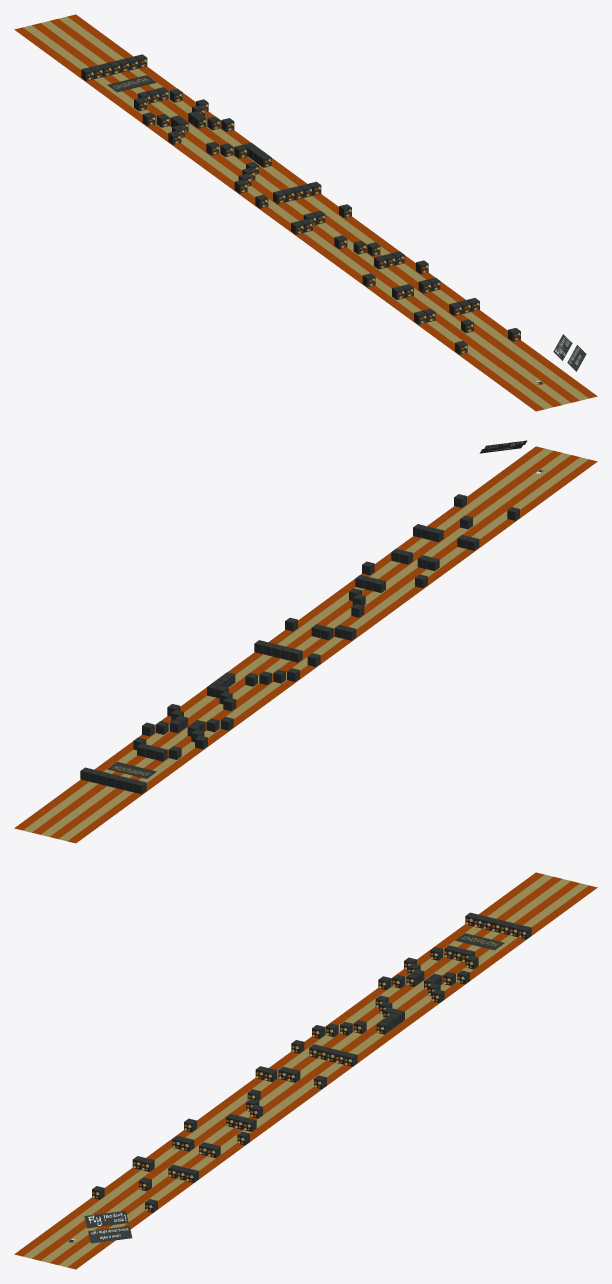
The model's file is assets.gltf.
3 views of the same model, one above another, from view 1: azimuth 30°, elevation 25°; view 2: azimuth 150°, elevation 25°; view 3: azimuth 330°, elevation 25° (orthographic).
Visible parts, largest first — view 1: Plane, Plane.008, Plane.001, Plane.002, Plane.003, Plane.004; view 2: Plane, Plane.008, Plane.002, Plane.001, Plane.003, Plane.004; view 3: Plane.008, Plane, Plane.001, Plane.002, Plane.003, Plane.004, Plane.007, Plane.006.
Boxes of the visible parts, left/top/right/bottom form: Plane: left=449, top=333, right=597, bottom=411; Plane.008: left=14, top=14, right=162, bottom=92; Plane.001: left=362, top=271, right=507, bottom=347; Plane.002: left=275, top=205, right=415, bottom=283; Plane.003: left=188, top=142, right=336, bottom=220; Plane.004: left=101, top=78, right=249, bottom=156; Plane: left=449, top=446, right=597, bottom=524; Plane.008: left=14, top=765, right=162, bottom=843; Plane.002: left=275, top=573, right=423, bottom=652; Plane.001: left=364, top=510, right=510, bottom=588; Plane.003: left=188, top=637, right=336, bottom=715; Plane.004: left=101, top=701, right=249, bottom=779; Plane.008: left=449, top=872, right=597, bottom=950; Plane: left=14, top=1192, right=162, bottom=1269; Plane.001: left=104, top=1129, right=245, bottom=1205; Plane.002: left=197, top=1063, right=336, bottom=1141; Plane.003: left=275, top=1000, right=423, bottom=1078; Plane.004: left=362, top=936, right=510, bottom=1014; Plane.007: left=88, top=1226, right=132, bottom=1243; Plane.006: left=84, top=1210, right=128, bottom=1228.
Size of the model in its own units: 9.54 by 3.2 by 102.
2 materials, 2 textured.
